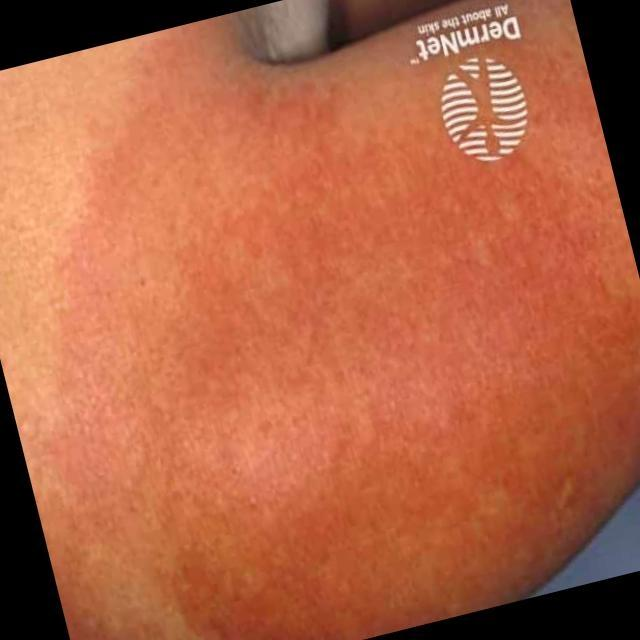Eczema: (49, 65, 627, 624)
